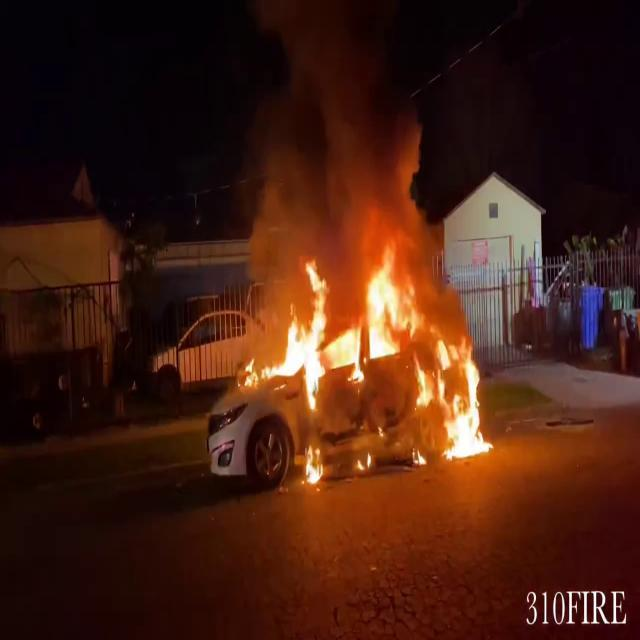Fire: (255, 232, 418, 420), (421, 336, 492, 459), (442, 344, 492, 460), (302, 442, 326, 487)
Smoke: (233, 0, 434, 265)
